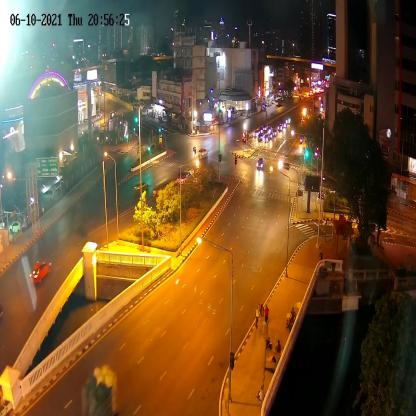car: (28, 257, 51, 284), (135, 180, 149, 199), (177, 170, 192, 184), (198, 147, 208, 161), (256, 156, 264, 173), (264, 134, 271, 144), (254, 129, 260, 139), (257, 132, 263, 142)
